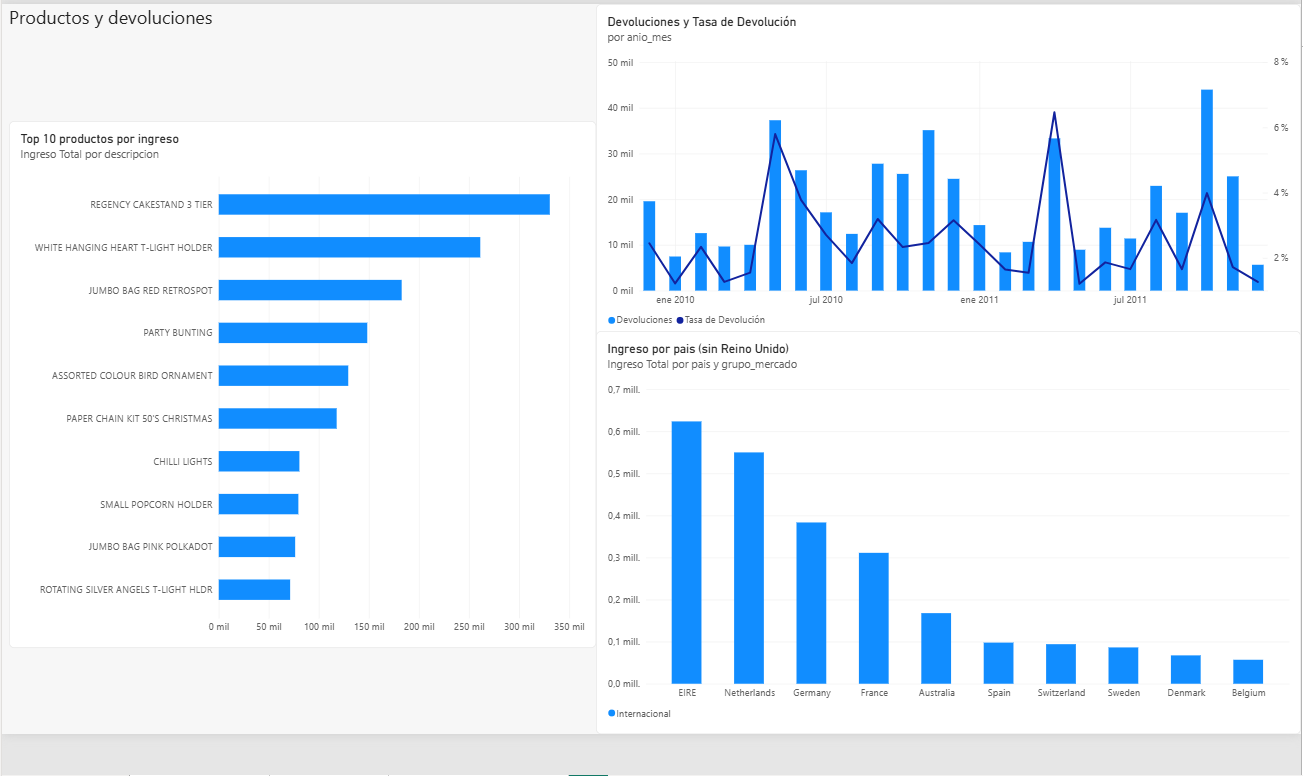

Layout of this report page (visuals, bound fields, positions):
{"tool":"powerbi","page":{"name":"Productos y devoluciones","canvas":[1920,1080],"ordinal":2},"visuals":[{"type":"textbox","box":[10.6,0,525.7,65],"z":0},{"type":"clusteredBarChart","title":"Top 10 productos por ingreso","fields":{"Category":["dim_producto.descripcion"],"Y":["fact_ventas.Ingreso Total"]},"box":[9.9,172.3,868.1,778.6],"z":1},{"type":"lineClusteredColumnComboChart","fields":{"Category":["dim_fecha.anio_mes"],"Y":["fact_ventas.Devoluciones"],"Y2":["fact_ventas.Tasa de Devolución"]},"box":[878,0,1042,498.6],"z":2},{"type":"clusteredColumnChart","title":"Ingreso por pais (sin Reino Unido)","fields":{"Category":["dim_pais.pais"],"Series":["dim_pais.grupo_mercado"],"Y":["fact_ventas.Ingreso Total"]},"box":[878,483.7,1042,596.4],"z":3}]}

Visuals, with their boxes on the page's 1920x1080 design canvas (x1, y1, x2, y2). These are canvas units, not pixel positions in the 1303x776 screenshot, which may show the page scaled, cropped or inside an application window:
textbox: detection(11, 0, 536, 65)
"Top 10 productos por ingreso" clusteredBarChart: detection(10, 172, 878, 951)
lineClusteredColumnComboChart - dim_fecha.anio_mes x fact_ventas.Devoluciones: detection(878, 0, 1920, 499)
"Ingreso por pais (sin Reino Unido)" clusteredColumnChart: detection(878, 484, 1920, 1080)
